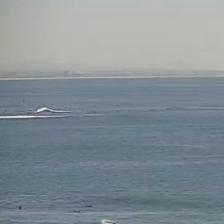surfer: (85, 205, 93, 208), (71, 210, 79, 213), (18, 206, 22, 210), (112, 222, 118, 224)
